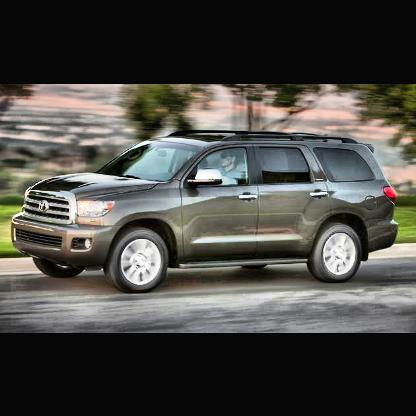Toyota Sequoia SUV 2012: (12, 130, 401, 297)
